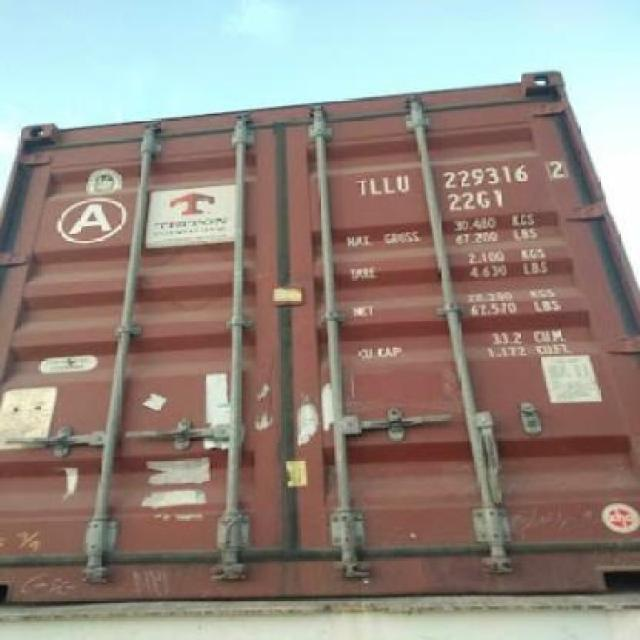ISO: (446, 186, 502, 209)
container_number: (354, 153, 562, 189)
